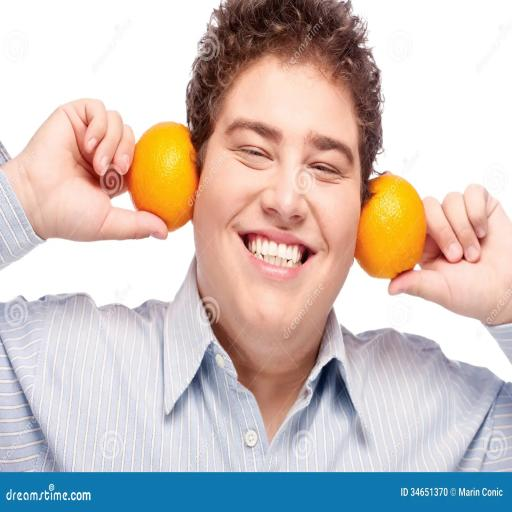orange: (128, 122, 198, 231), (355, 174, 426, 278)
